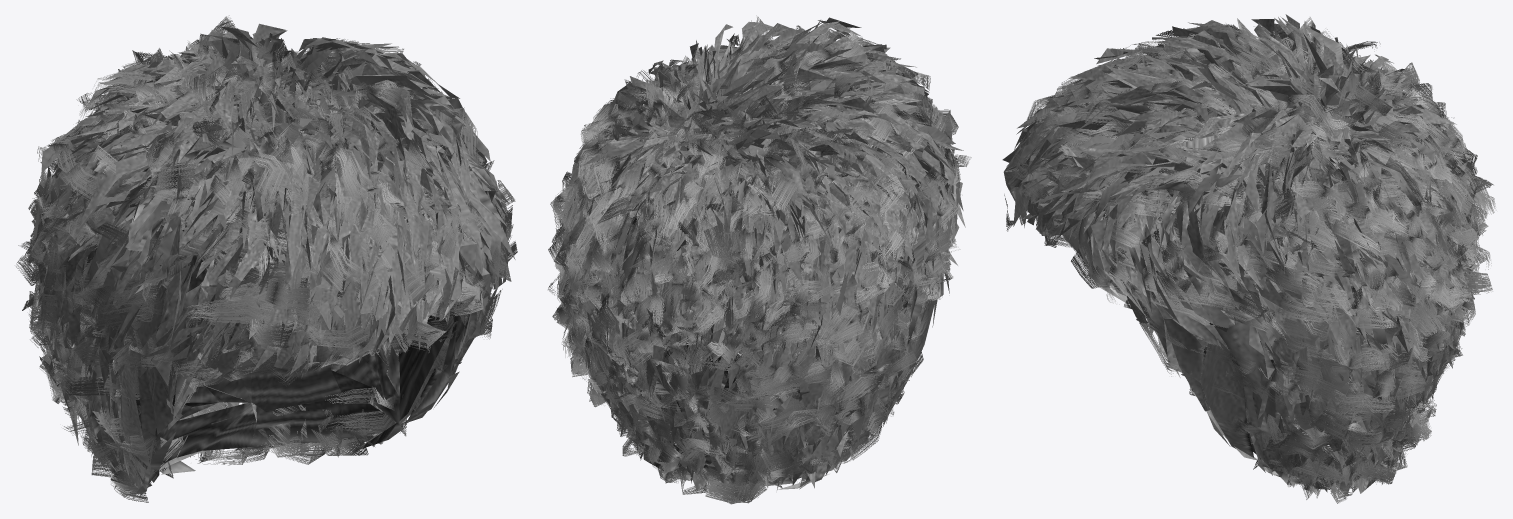
Rendered from hair_crop.glb.
The picture shows the model from 3 angles, left to right: view 1: azimuth 30°, elevation 25°; view 2: azimuth 150°, elevation 25°; view 3: azimuth 270°, elevation 25°; orthographic projection. The views are drawn at different scales.
Parts seen in each view (by area): view 1: Mesh_0, haircards; view 2: haircards, Mesh_0; view 3: Mesh_0, haircards.
Boxes of the visible parts, x1,y1,x2,y2 form: Mesh_0: (28,23,515,499); haircards: (16,15,517,502); haircards: (548,15,971,504); Mesh_0: (554,17,965,493); Mesh_0: (1002,14,1482,497); haircards: (1004,17,1496,503).
Size of the model in its own units: 0.2024 by 0.2308 by 0.2395.
Materials: 2 (2 with a texture image).
